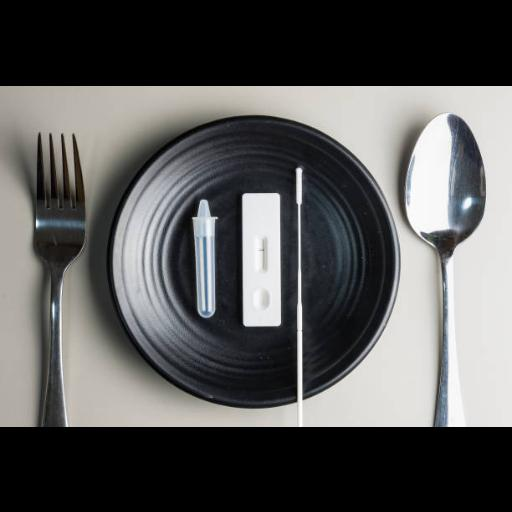Neg: (242, 193, 280, 325)
